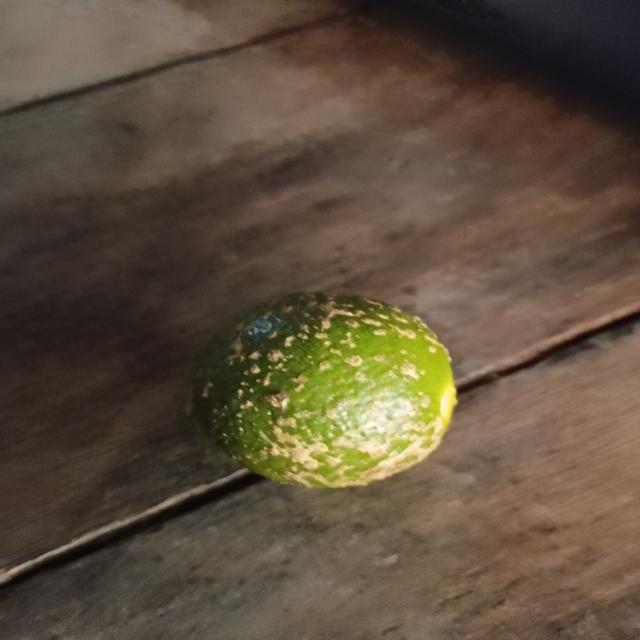scab: (187, 292, 462, 497)
